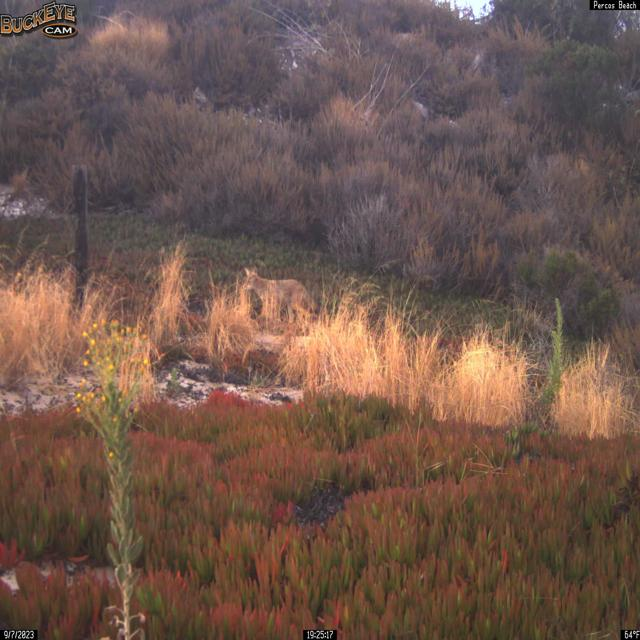coyote: (242, 265, 320, 325)
